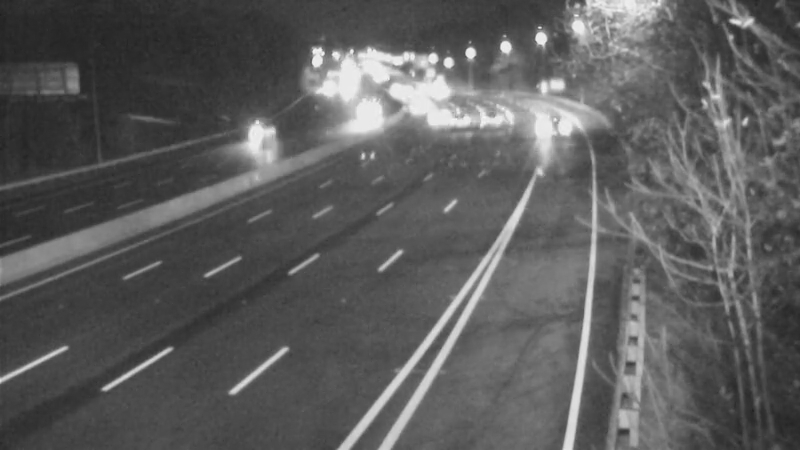vehicle: (384, 79, 434, 129), (409, 84, 459, 134), (464, 95, 514, 145), (433, 97, 483, 147), (522, 100, 572, 150), (223, 125, 273, 175), (334, 95, 384, 145)
